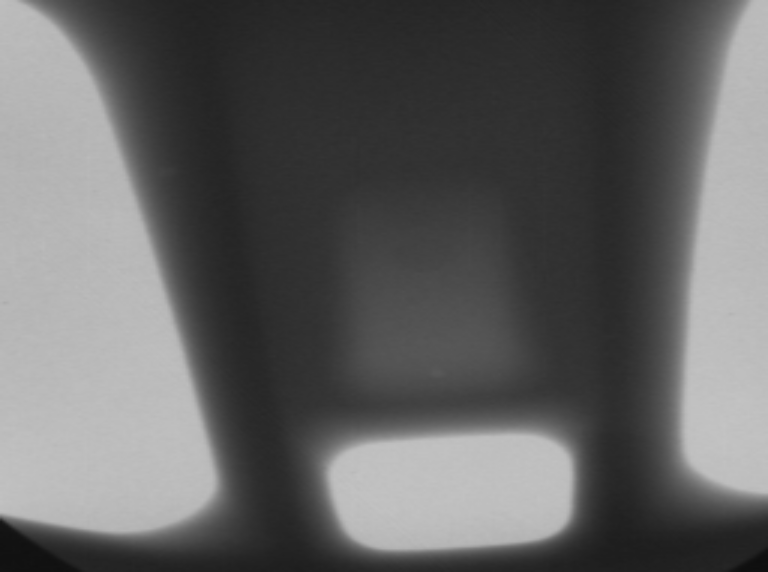defect: (411, 355, 459, 393)
